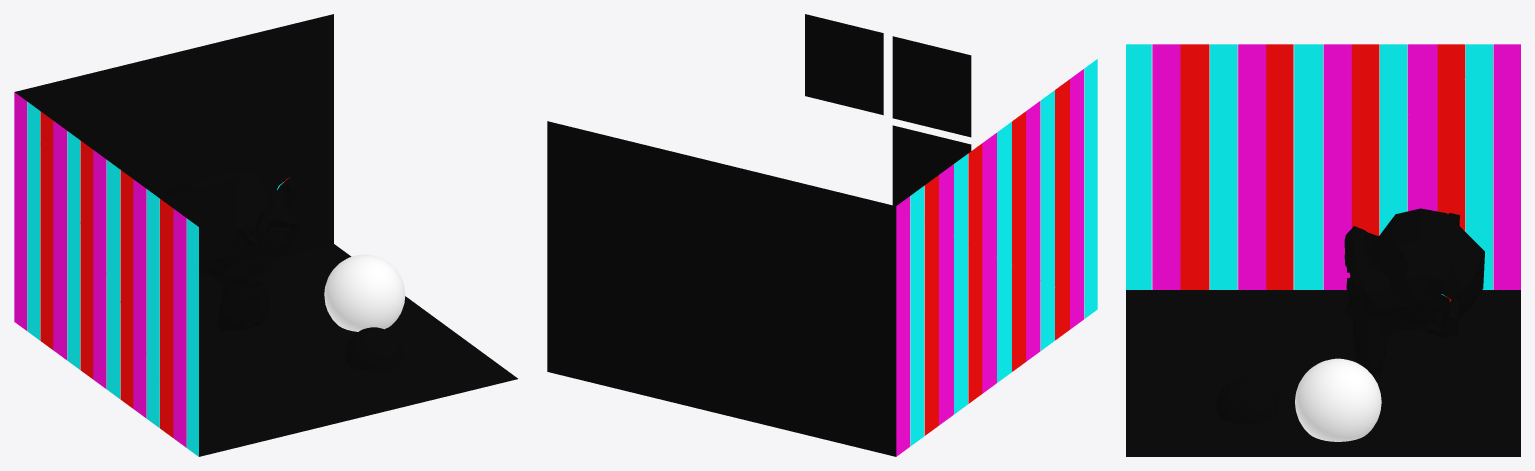
File: monkey.glb
3 views of the same model, side by side, from view 1: azimuth 30°, elevation 25°; view 2: azimuth 150°, elevation 25°; view 3: azimuth 270°, elevation 25° (orthographic). The views are drawn at different scales.
Visible parts, largest first — view 1: Merged.002, Merged.005, Merged.001, Merged.006, Merged, Merged.003, Merged.004; view 2: Merged.001, Merged.002, Merged.006; view 3: Merged.002, Merged.005, Merged, Merged.003, Merged.004.
Boxes of the visible parts, x1=… form: Merged.002: x1=14, y1=92, x2=198, y2=456; Merged.005: x1=199, y1=244, x2=517, y2=456; Merged.001: x1=15, y1=14, x2=333, y2=276; Merged.006: x1=164, y1=76, x2=316, y2=262; Merged: x1=161, y1=165, x2=303, y2=330; Merged.003: x1=324, y1=254, x2=405, y2=331; Merged.004: x1=344, y1=327, x2=402, y2=371; Merged.001: x1=547, y1=121, x2=896, y2=456; Merged.002: x1=896, y1=59, x2=1097, y2=456; Merged.006: x1=805, y1=14, x2=971, y2=205; Merged.002: x1=1126, y1=44, x2=1520, y2=289; Merged.005: x1=1126, y1=290, x2=1520, y2=456; Merged: x1=1344, y1=208, x2=1484, y2=375; Merged.003: x1=1295, y1=358, x2=1381, y2=441; Merged.004: x1=1216, y1=377, x2=1278, y2=423.
Size of the model in its own units: 4.78 by 4.33 by 4.78.
Materials: 1 (1 with a texture image).
